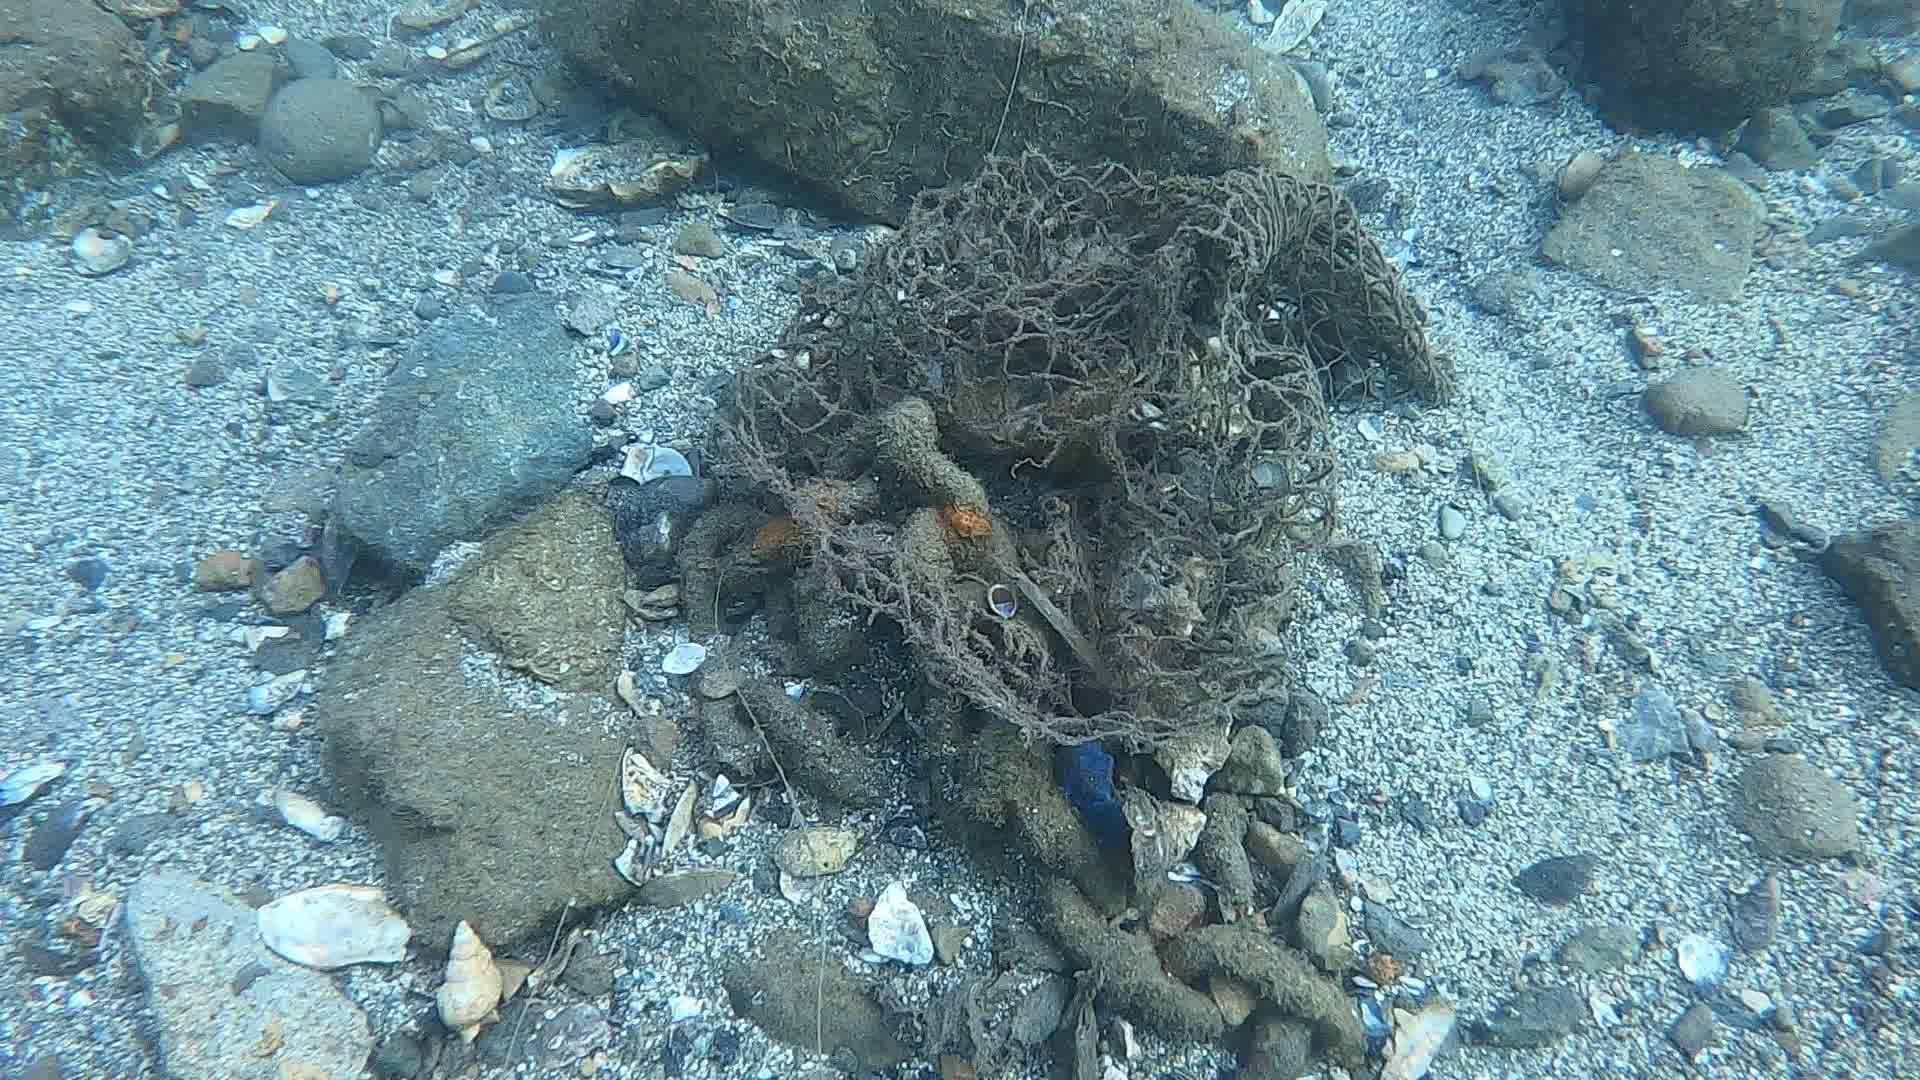fish net: (735, 150, 1437, 589)
